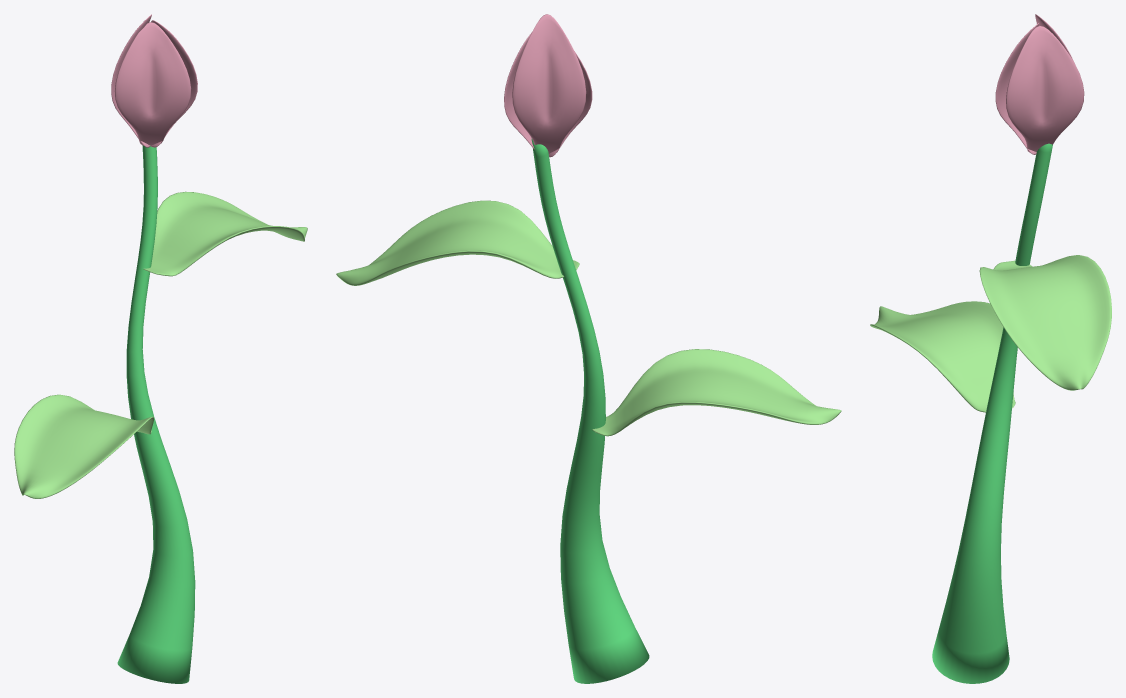
The model's file is flower_animation#3.fbx.
3 views of the same model, side by side, from view 1: azimuth 30°, elevation 25°; view 2: azimuth 150°, elevation 25°; view 3: azimuth 270°, elevation 25° (orthographic). The views are drawn at different scales.
Parts seen in each view (by area): view 1: Vert.005, Plane.006, Plane.009, Plane.004, Plane.008, Plane.001; view 2: Vert.005, Plane.006, Plane.004, Plane.001, Plane.008; view 3: Vert.005, Plane.004, Plane.006, Plane.008, Plane.009.
Part boxes in pixels (left/top/right/bottom): Vert.005: left=117, top=145, right=195, bottom=683; Plane.006: left=14, top=394, right=154, bottom=498; Plane.009: left=114, top=22, right=191, bottom=145; Plane.004: left=143, top=191, right=307, bottom=276; Plane.008: left=151, top=20, right=197, bottom=147; Plane.001: left=111, top=14, right=151, bottom=147; Vert.005: left=531, top=138, right=649, bottom=683; Plane.006: left=592, top=349, right=841, bottom=436; Plane.004: left=336, top=200, right=579, bottom=285; Plane.001: left=512, top=14, right=586, bottom=153; Plane.008: left=504, top=32, right=534, bottom=149; Vert.005: left=932, top=143, right=1052, bottom=683; Plane.004: left=979, top=255, right=1111, bottom=390; Plane.006: left=870, top=301, right=1015, bottom=412; Plane.008: left=1006, top=25, right=1084, bottom=152; Plane.009: left=995, top=23, right=1039, bottom=154.
Size of the model in its own units: 782 by 1259 by 413.
